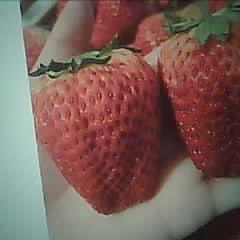straw-ripe: (32, 49, 161, 212), (159, 24, 240, 177)
